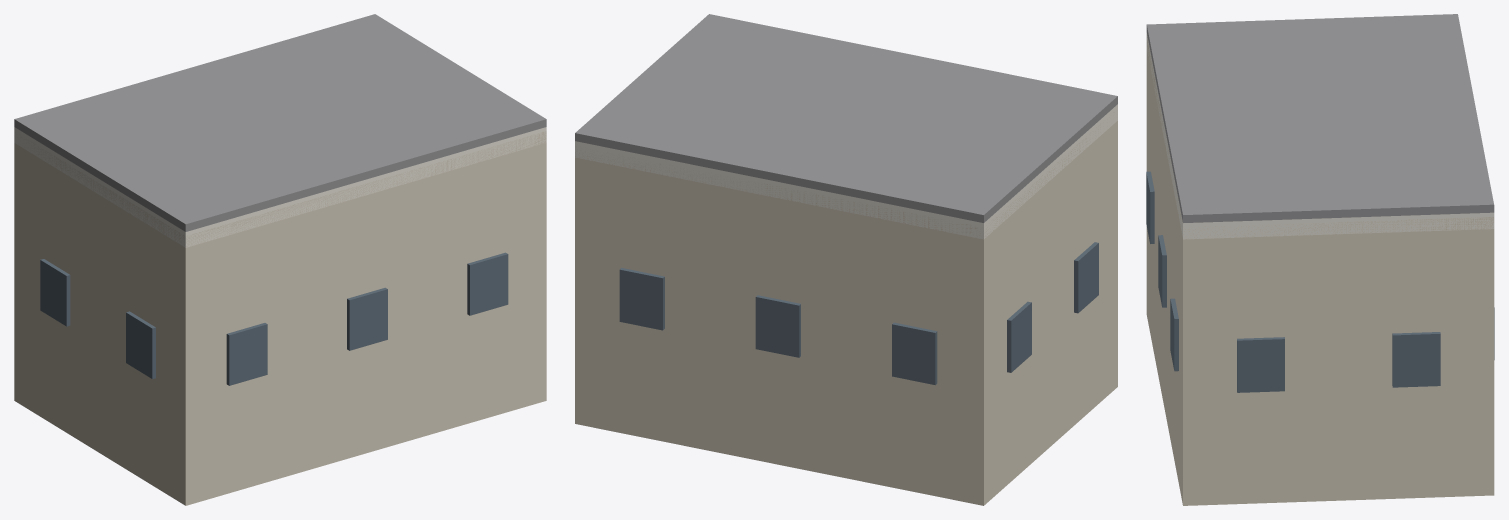
Rendered from s11_gis_247972_820844.glb.
The picture shows the model from 3 angles, left to right: view 1: azimuth 30°, elevation 25°; view 2: azimuth 150°, elevation 25°; view 3: azimuth 270°, elevation 25°; orthographic projection. The views are drawn at different scales.
Parts seen in each view (by area): view 1: mass, roofcap, cornice, win_2_0_2, win_2_0_0, win_2_0_1, win_1_0_0, win_1_0_1; view 2: mass, roofcap, cornice, win_0_0_0, win_0_0_2, win_0_0_1, win_1_0_1, win_1_0_0; view 3: mass, roofcap, cornice, win_3_0_1, win_3_0_0, win_2_0_2, win_2_0_1, win_2_0_0.
Part boxes in pixels (x1,y1,x2,y2): mass: [14, 131, 546, 505]; roofcap: [14, 14, 546, 231]; cornice: [14, 127, 546, 247]; win_2_0_2: [467, 252, 508, 315]; win_2_0_0: [226, 323, 267, 385]; win_2_0_1: [347, 287, 387, 350]; win_1_0_0: [40, 259, 70, 326]; win_1_0_1: [126, 311, 155, 378]; mass: [575, 112, 1117, 505]; roofcap: [575, 14, 1117, 222]; cornice: [575, 104, 1117, 239]; win_0_0_0: [619, 268, 664, 330]; win_0_0_2: [892, 322, 937, 385]; win_0_0_1: [755, 295, 800, 357]; win_1_0_1: [1074, 242, 1098, 313]; win_1_0_0: [1007, 301, 1031, 372]; mass: [1146, 37, 1494, 505]; roofcap: [1146, 14, 1494, 222]; cornice: [1146, 33, 1494, 239]; win_3_0_1: [1392, 332, 1440, 387]; win_3_0_0: [1237, 337, 1284, 392]; win_2_0_2: [1170, 298, 1178, 371]; win_2_0_1: [1158, 235, 1166, 307]; win_2_0_0: [1146, 171, 1154, 243].
Size of the model in its own units: 12.4 by 8.35 by 9.06.
